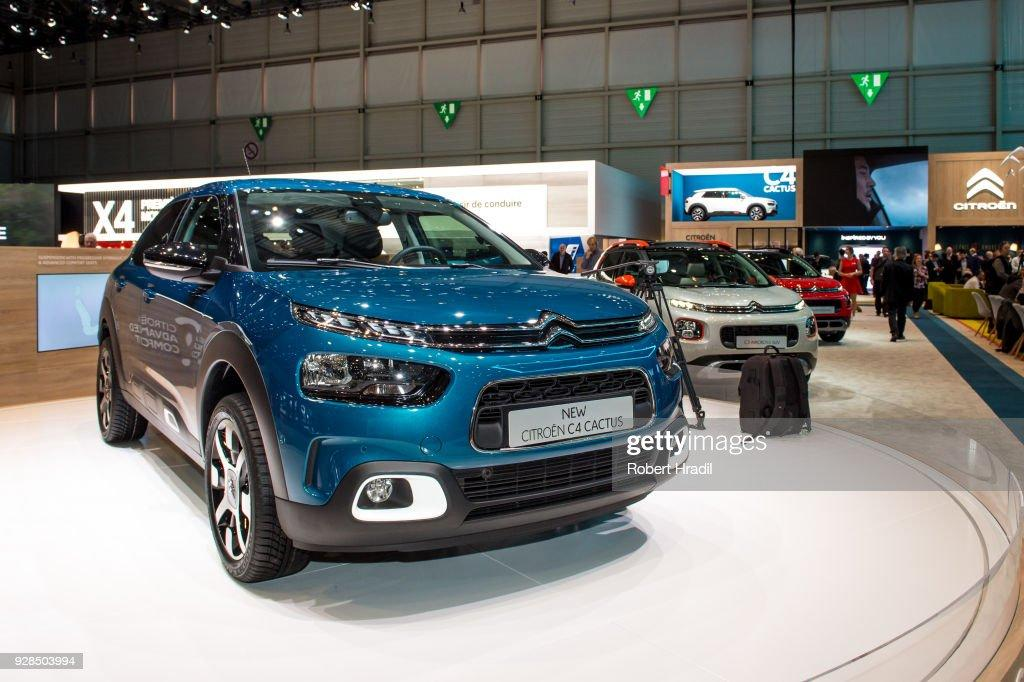Citroen: (532, 304, 590, 360), (741, 293, 772, 322)
